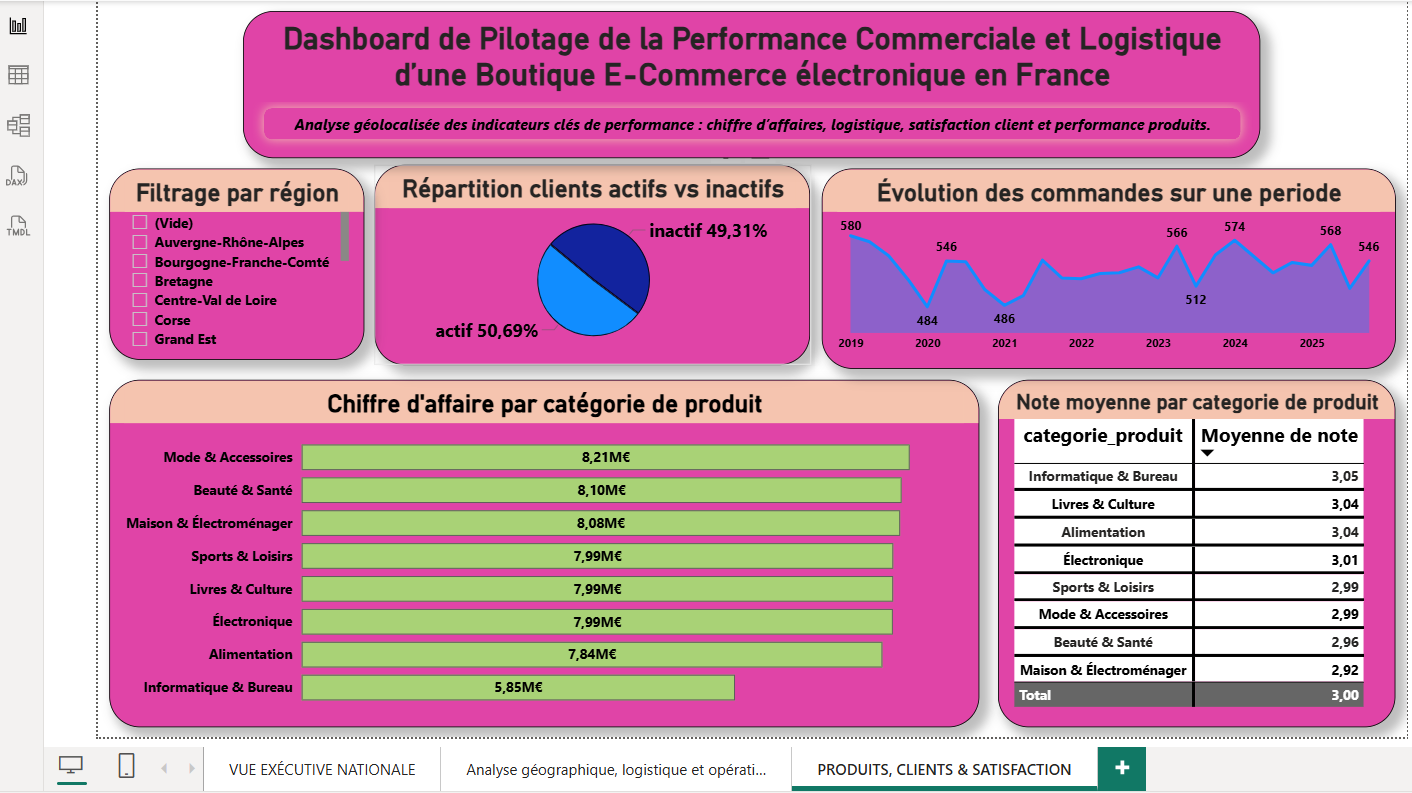

The dashboard page shown, as its layout file describes it:
{"tool":"powerbi","page":{"name":"PRODUITS, CLIENTS & SATISFACTION","canvas":[1280,720],"ordinal":2},"visuals":[{"type":"clusteredBarChart","title":"Chiffre d''affaire par catégorie de produit","fields":{"Y":["Sum(articles_de_commande.Prix_total)"],"Category":["produits.categorie_produit"]},"box":[11,370.5,851.1,339.9],"z":3000},{"type":"tableEx","title":"Note moyenne par categorie de produit","fields":{"Values":["produits.categorie_produit","Avg(avis.note)"]},"box":[880.4,370.5,388.9,339.9],"z":4000},{"type":"pieChart","title":"Répartition clients actifs vs inactifs","fields":{"Category":["clients.statut_client"],"Y":["CountNonNull(clients.id_client)"]},"box":[270.2,160.2,426.8,195.7],"z":5000},{"type":"shape","title":"Dashboard de Pilotage de la Performance Commerciale et Logistique d’une Boutique E-Commerce électronique en France","box":[141.8,9.8,995.4,144.3],"z":6000},{"type":"slicer","title":"Filtrage par région","fields":{"Values":["geolocalisation_avec_regions.region"]},"box":[11,163.9,249.5,187.1],"z":7000},{"type":"lineChart","title":"Évolution des commandes sur une periode","fields":{"Y":["CountNonNull(commandes.id_commande)"],"Category":["commandes.date_commande.Variation.Hiérarchie de dates.Année","commandes.date_commande.Variation.Hiérarchie de dates.Trimestre"]},"box":[708,163.9,561.3,195.7],"z":7001}]}

Visuals, with their boxes on the page's 1280x720 design canvas (x1, y1, x2, y2). These are canvas units, not pixel positions in the 1412x793 screenshot, which may show the page scaled, cropped or inside an application window:
"Chiffre d''affaire par catégorie de produit" clusteredBarChart: left=11, top=370, right=862, bottom=710
"Note moyenne par categorie de produit" tableEx: left=880, top=370, right=1269, bottom=710
"Répartition clients actifs vs inactifs" pieChart: left=270, top=160, right=697, bottom=356
"Dashboard de Pilotage de la Performance Commerciale et Logistique d’une Boutique E-Commerce électronique en France" shape: left=142, top=10, right=1137, bottom=154
"Filtrage par région" slicer: left=11, top=164, right=260, bottom=351
"Évolution des commandes sur une periode" lineChart: left=708, top=164, right=1269, bottom=360
